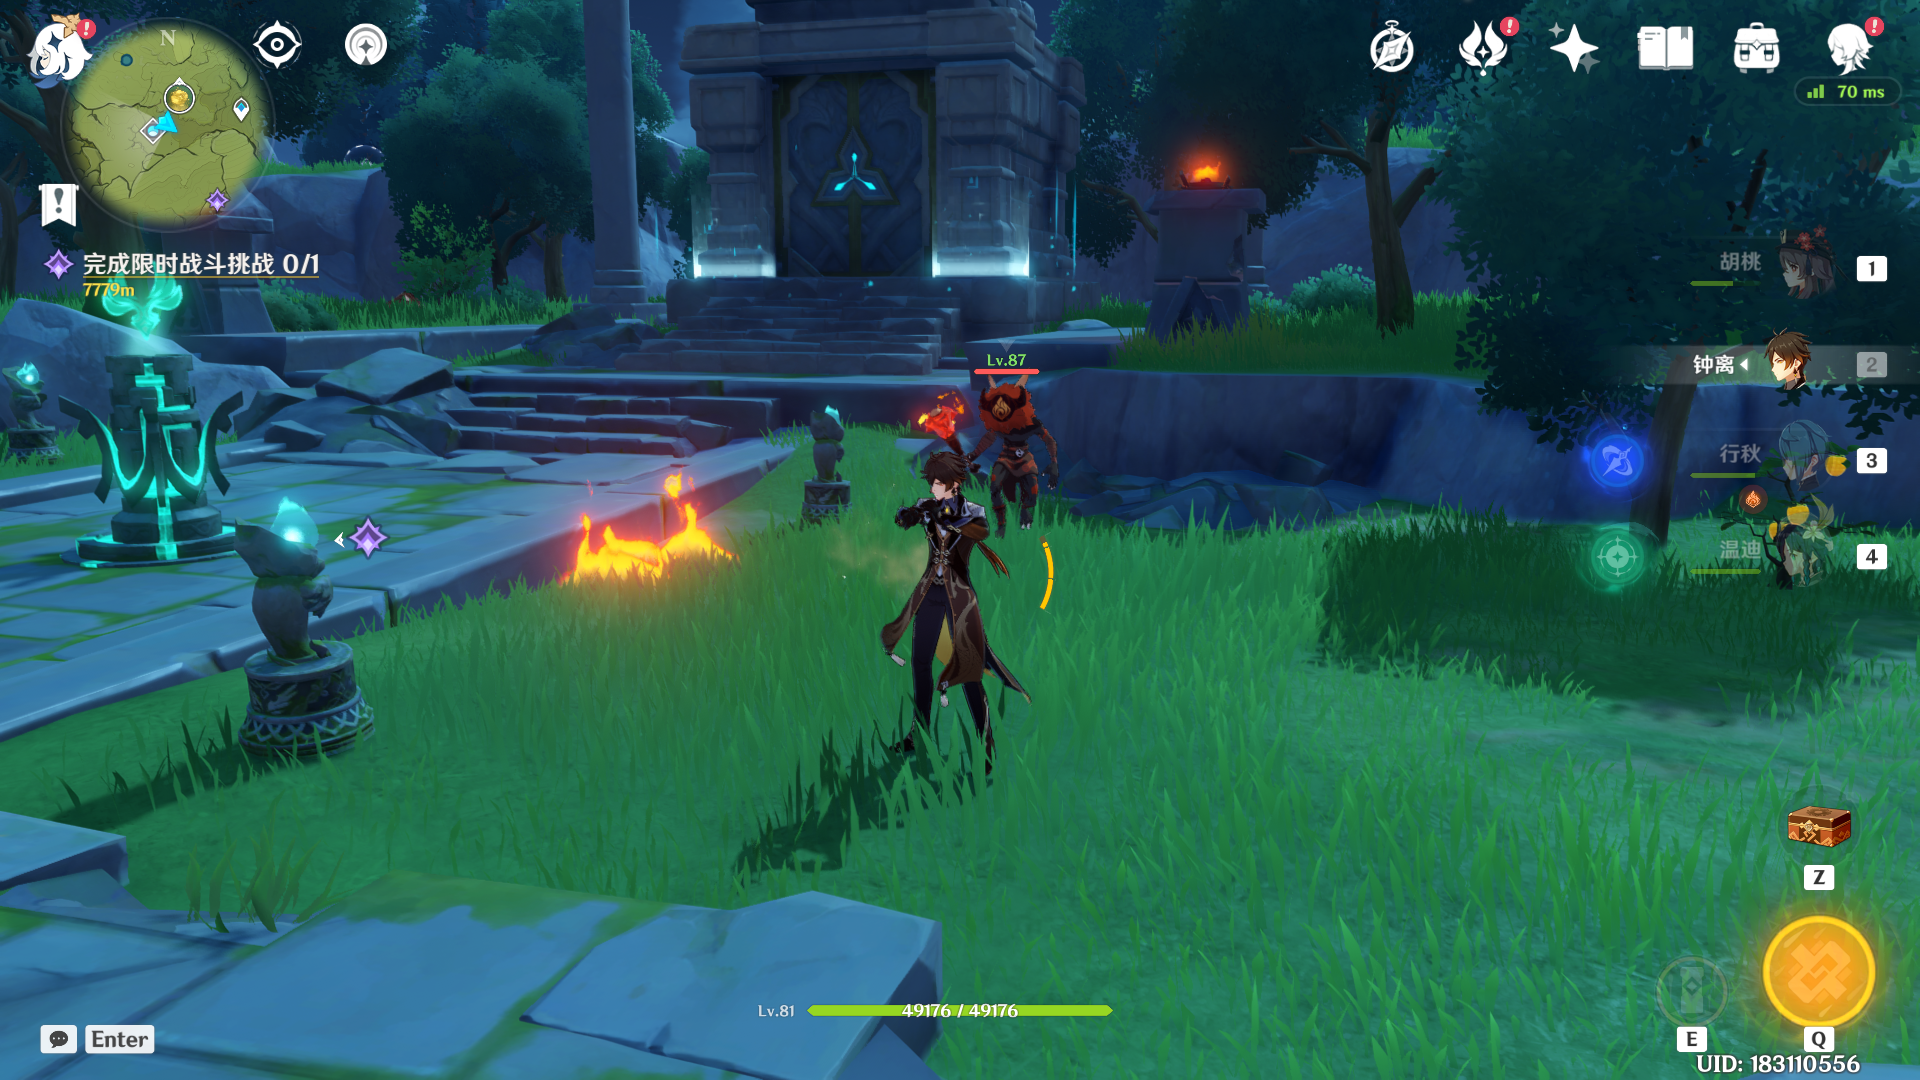character: (825, 415, 1087, 816)
hili: (926, 342, 1095, 545)
